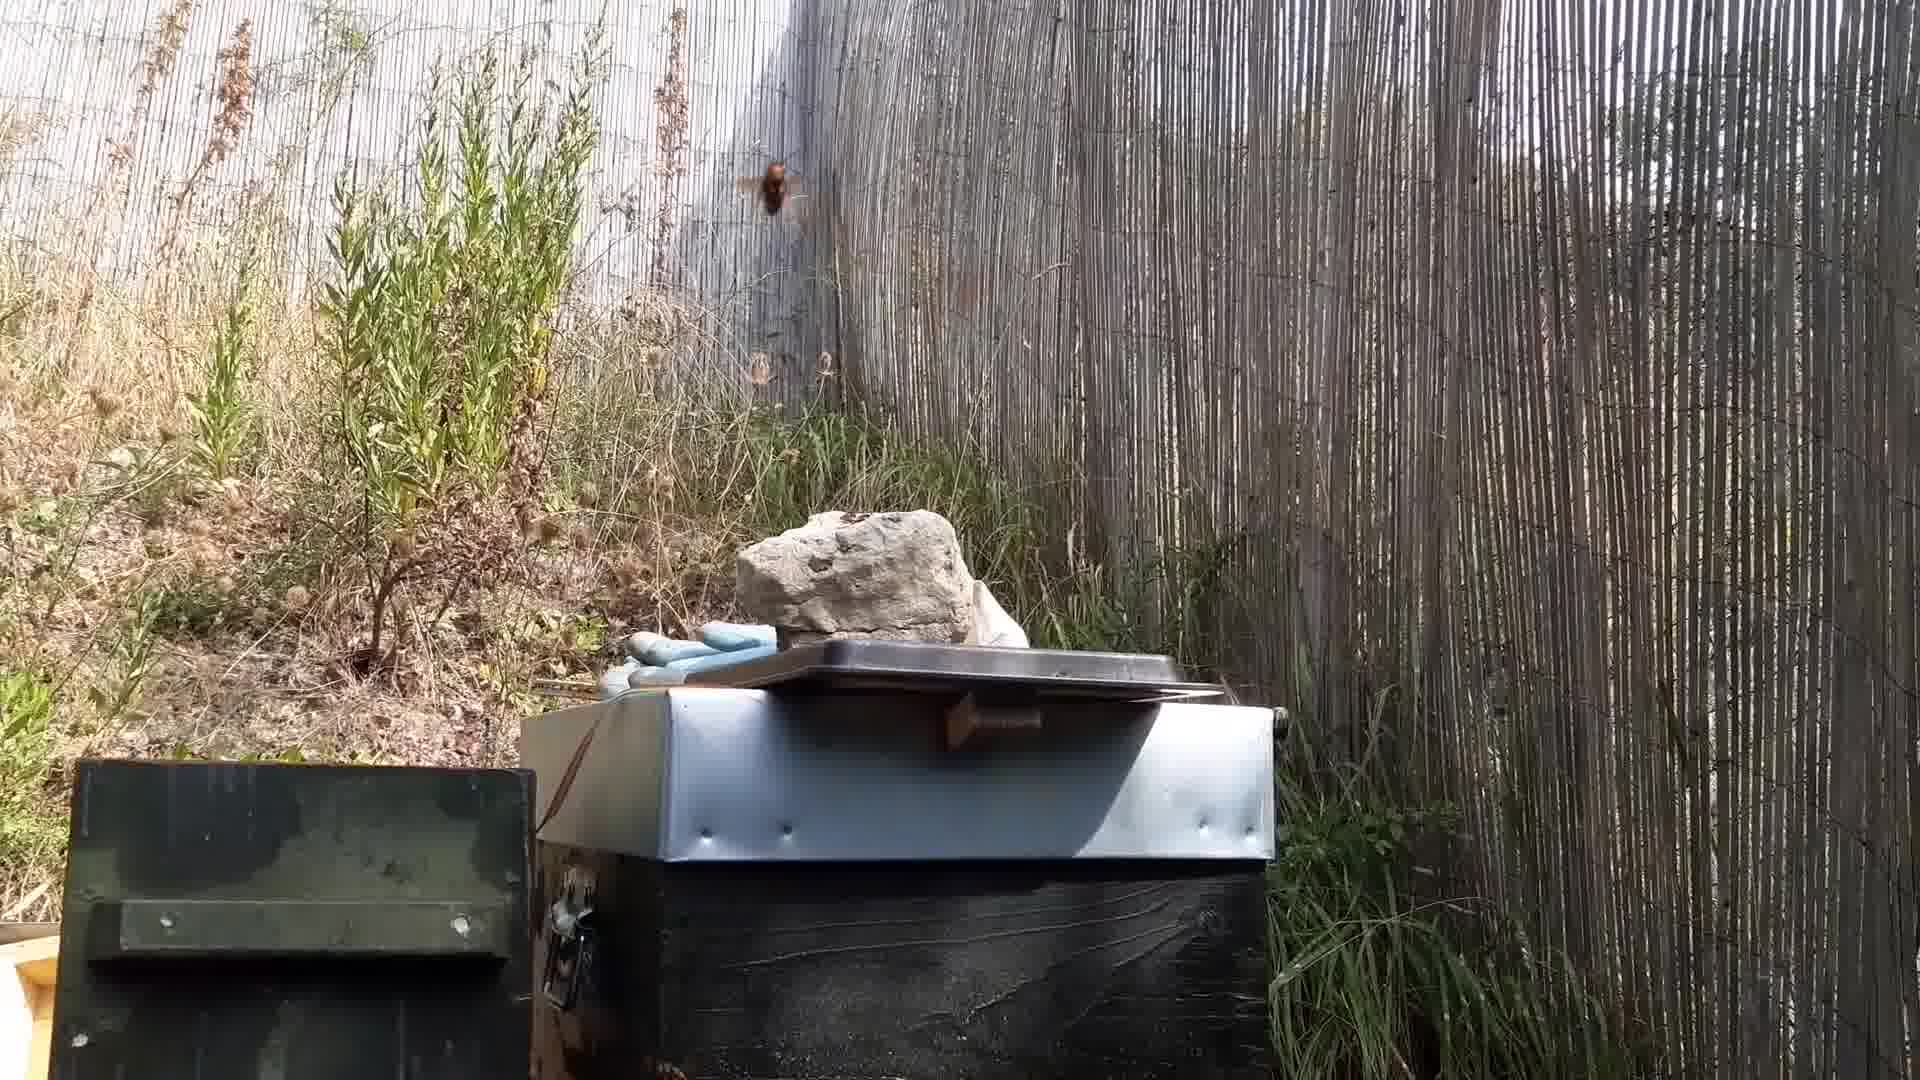hornet: (740, 153, 808, 222)
